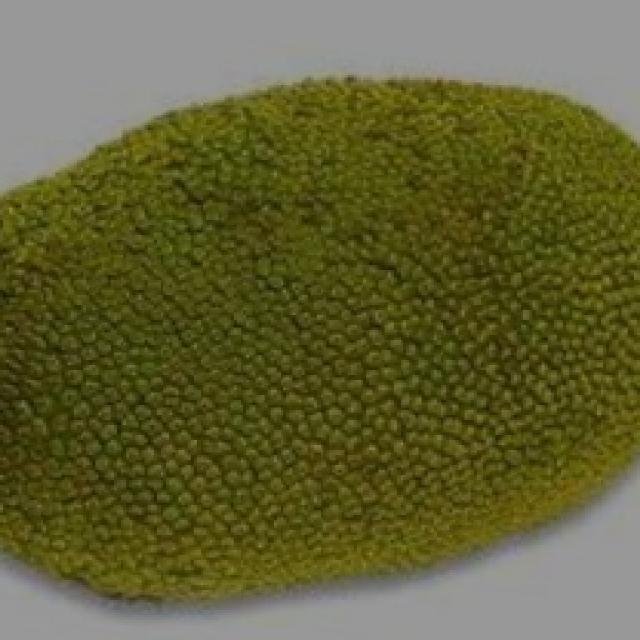Fruit: (0, 212, 394, 638), (258, 42, 640, 350)
